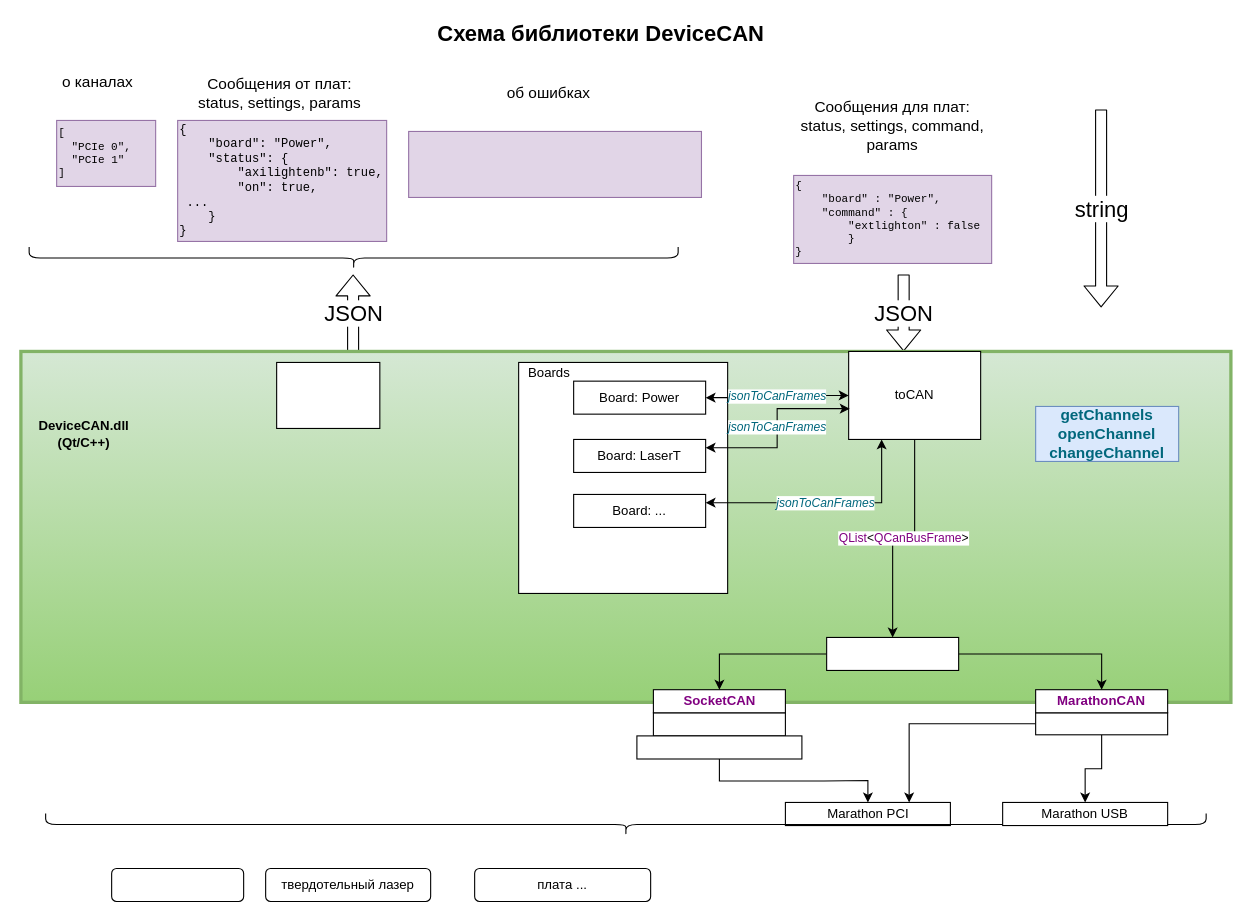
Some shapes in this 1251 by 921 pixel diagram are drawn without their labels. Here are the shapes that lost their labels. From the top down, the centre of each, then its label:
(x=554, y=163): { " name " : " UnableToOpen " , " message " : " Marathon invalid parameter " }
(x=328, y=394): newMSG
(x=892, y=653): writeToCAN
(x=718, y=724): Qt: SocketCAN
(x=1101, y=723): Marathon: chai 2.11
(x=719, y=747): Linux kernel: SocketCAN
(x=177, y=884): плата подсветки
